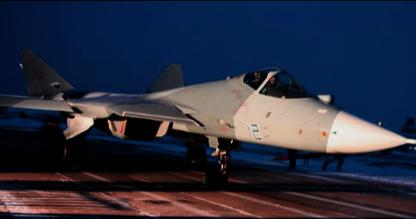SR71: (1, 48, 415, 190)
